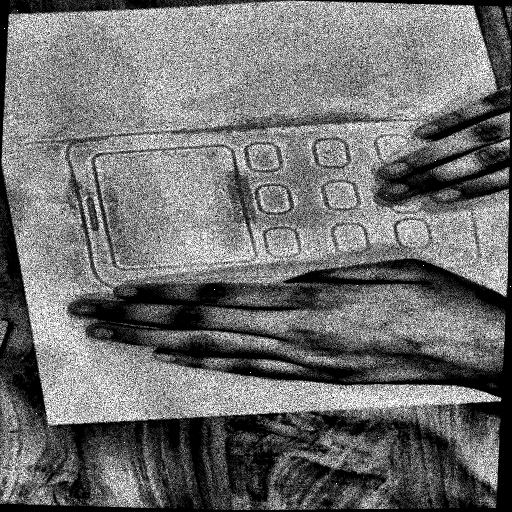mobile: (16, 108, 492, 299)
top_right: (42, 419, 58, 430)
